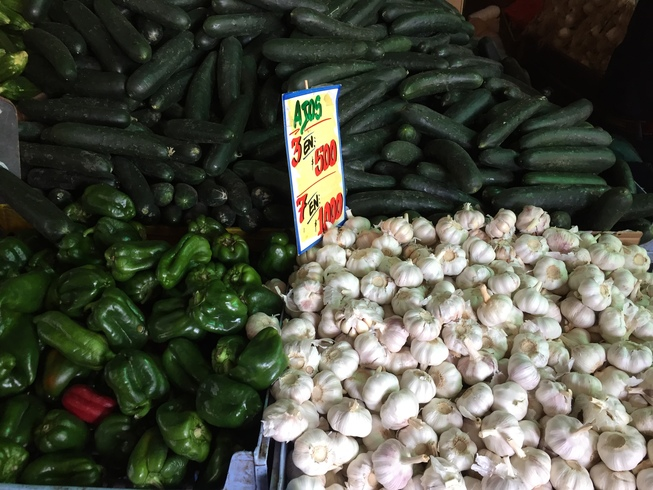precio: (280, 83, 352, 253)
